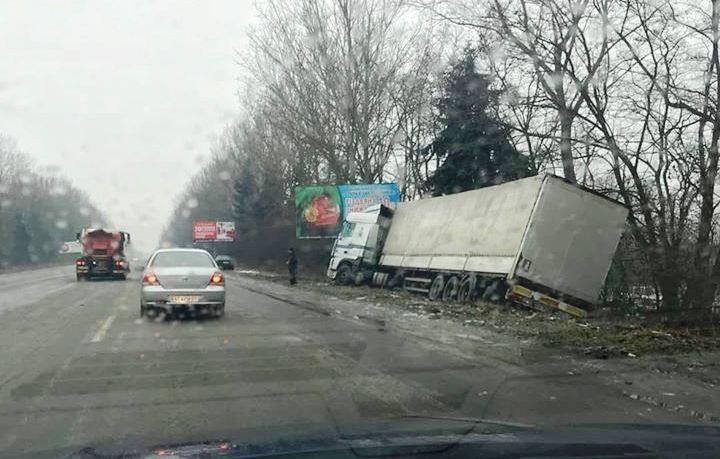car: (140, 246, 228, 320), (213, 252, 238, 275)
person: (280, 246, 302, 292)
truck: (325, 180, 650, 330), (72, 226, 134, 280)
